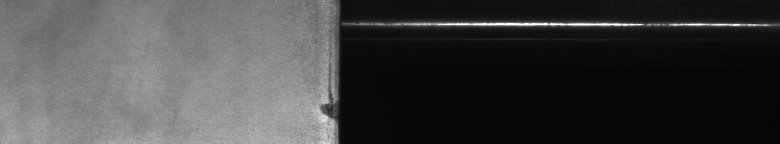hb: (304, 36, 328, 134)
